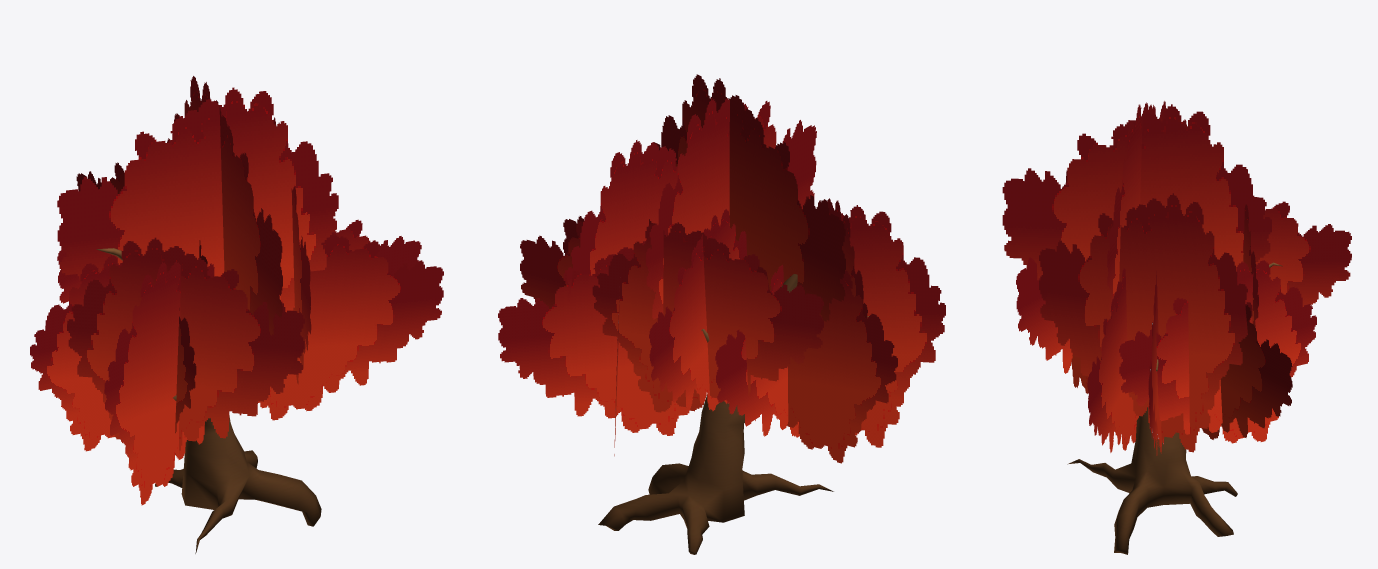
The model's file is TreeOakRed.glb.
3 renders of one model, left to right at view 1: azimuth 30°, elevation 25°; view 2: azimuth 150°, elevation 25°; view 3: azimuth 270°, elevation 25°, orthographic. The views are drawn at different scales.
Visible parts, largest first — view 1: TreeOakRed; view 2: TreeOakRed; view 3: TreeOakRed.
Part boxes in pixels (bbox=[...]): TreeOakRed: bbox=[30, 76, 443, 553]; TreeOakRed: bbox=[498, 74, 945, 554]; TreeOakRed: bbox=[1002, 101, 1351, 554].
Bounding box in the file's own units: 9.1 × 9.98 × 7.72.
1 material, 1 textured.
